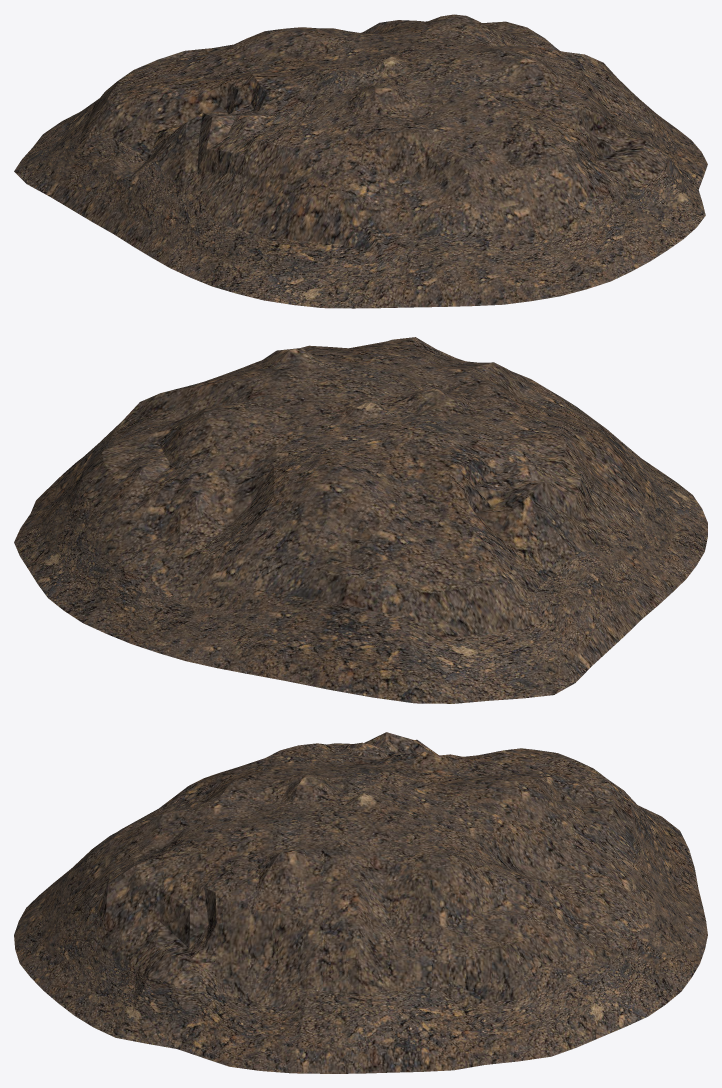
File: tasDeTerre.obj
The picture shows the model from 3 angles, top to bottom: view 1: azimuth 30°, elevation 25°; view 2: azimuth 150°, elevation 25°; view 3: azimuth 270°, elevation 25°; orthographic projection. The views are drawn at different scales.
Parts seen in each view (by area): view 1: terre_Cone; view 2: terre_Cone; view 3: terre_Cone.
Part boxes in pixels (<box>): terre_Cone: <box>14,14,707,308</box>; terre_Cone: <box>14,337,707,703</box>; terre_Cone: <box>14,732,707,1073</box>.
Bounding box in the file's own units: 92.33 × 19.83 × 92.97.
